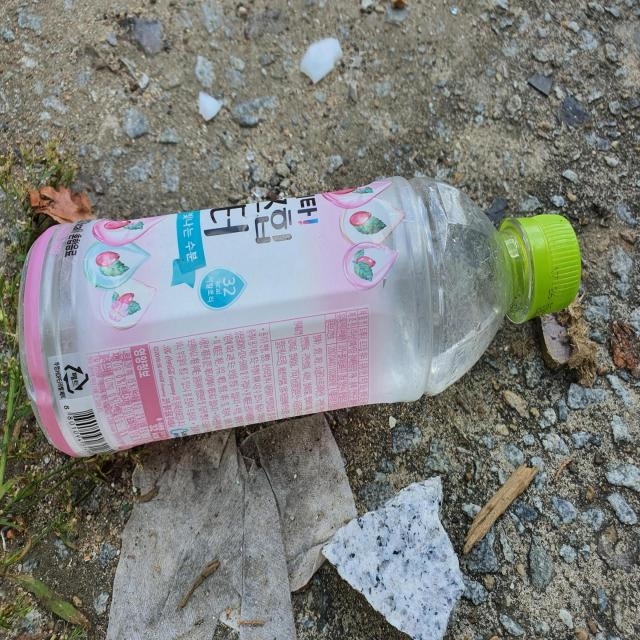plastic: (18, 176, 581, 456)
